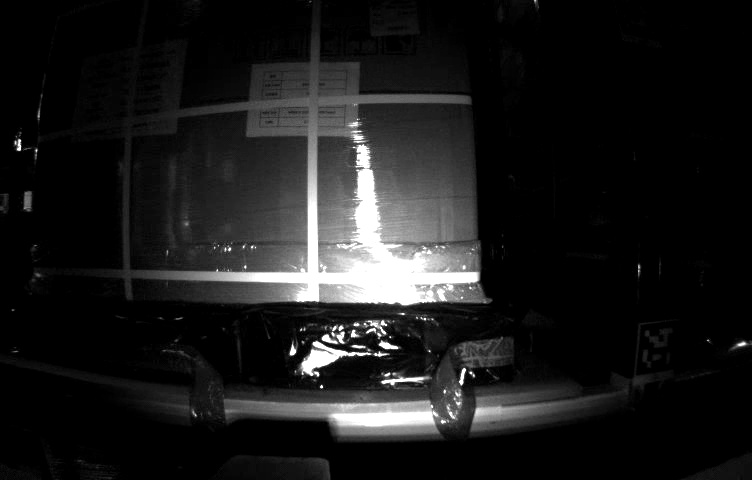True Barcode: (364, 1, 427, 36)
